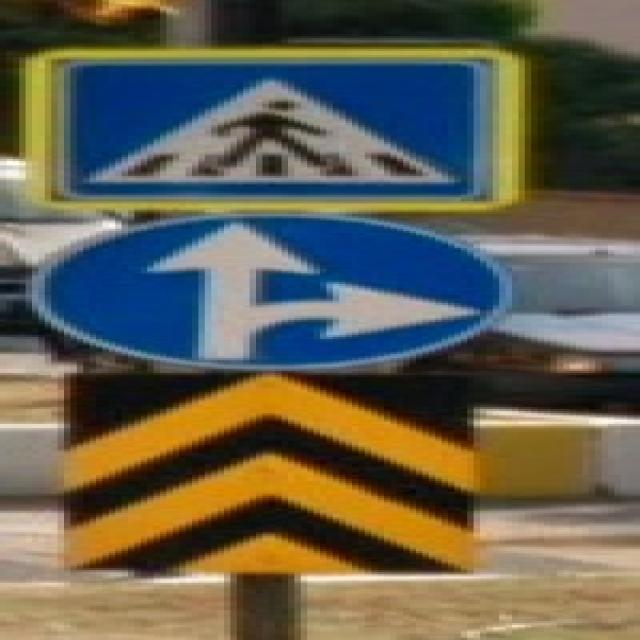Straight or Right: (27, 218, 513, 369)
